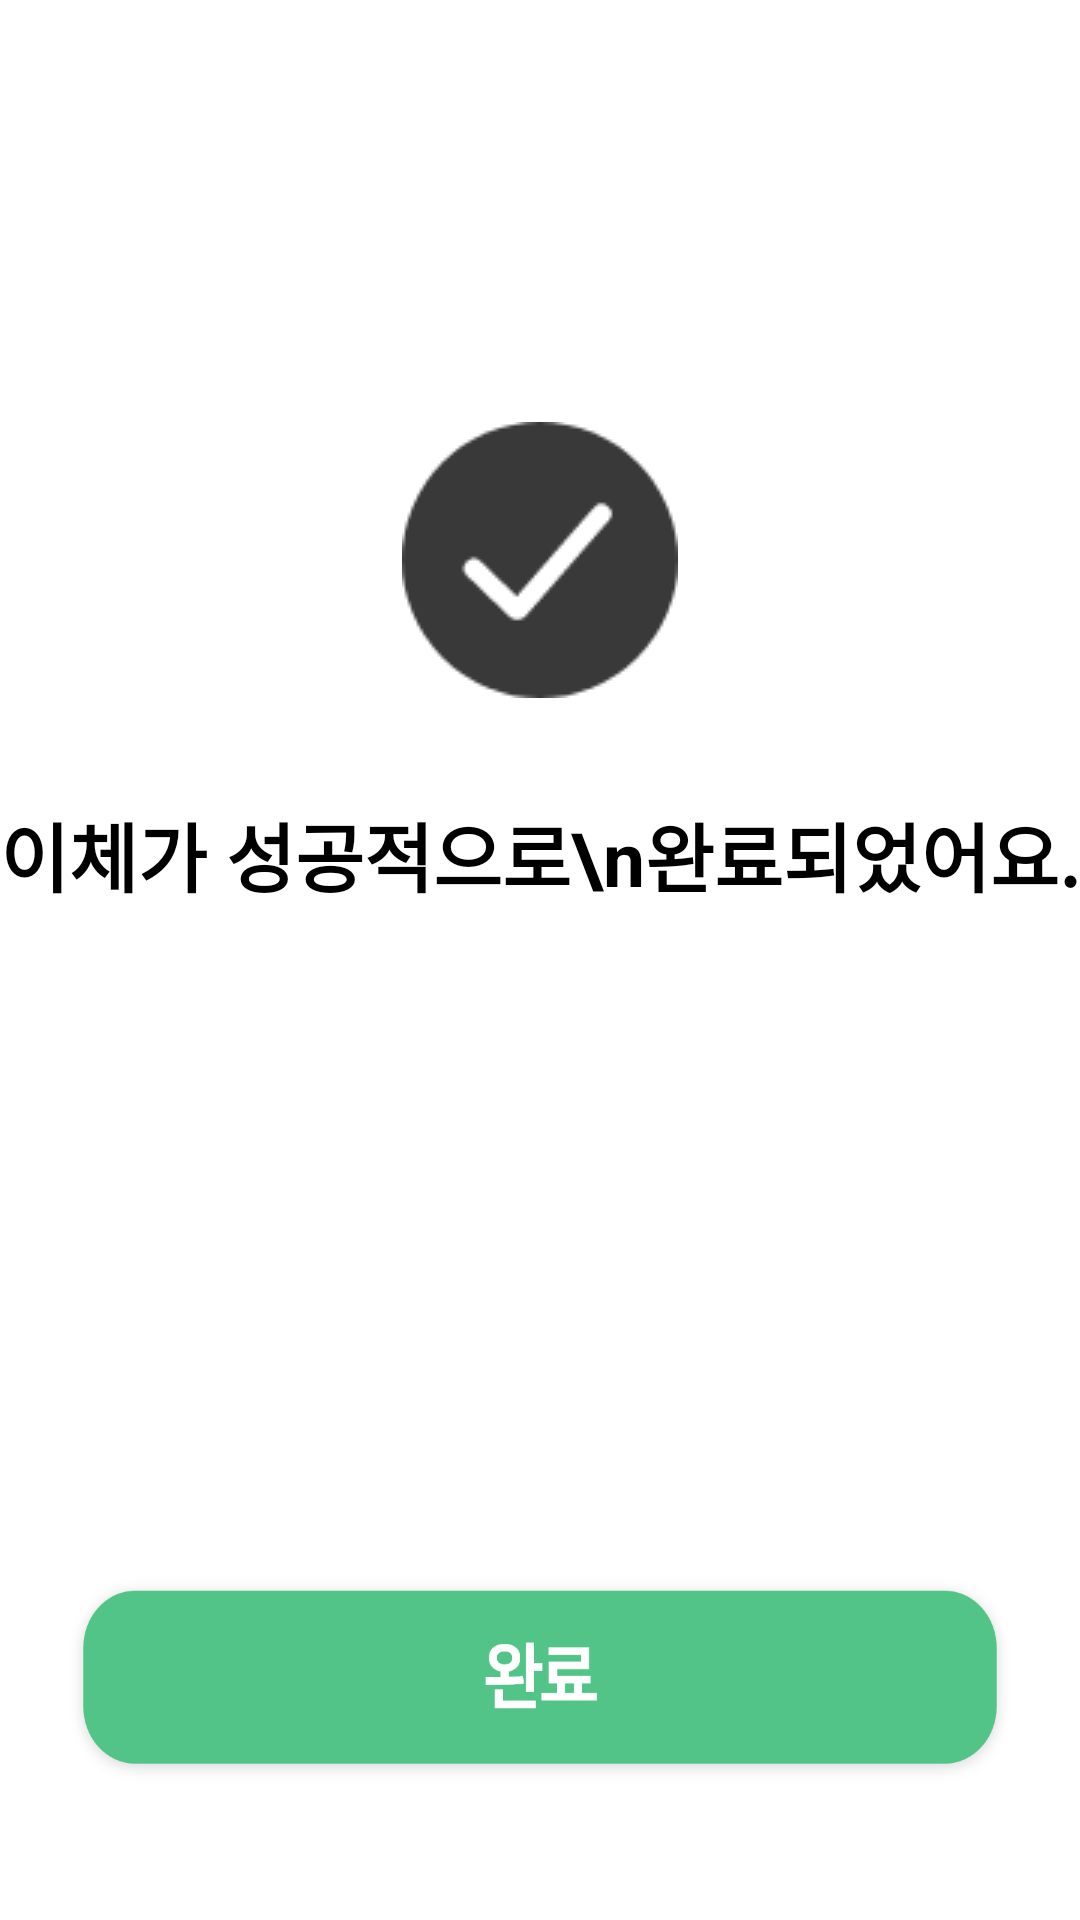

Where to tap for icons on this 1080x1920 app screen, as (x=x, y=y):
check: (x=540, y=560)
